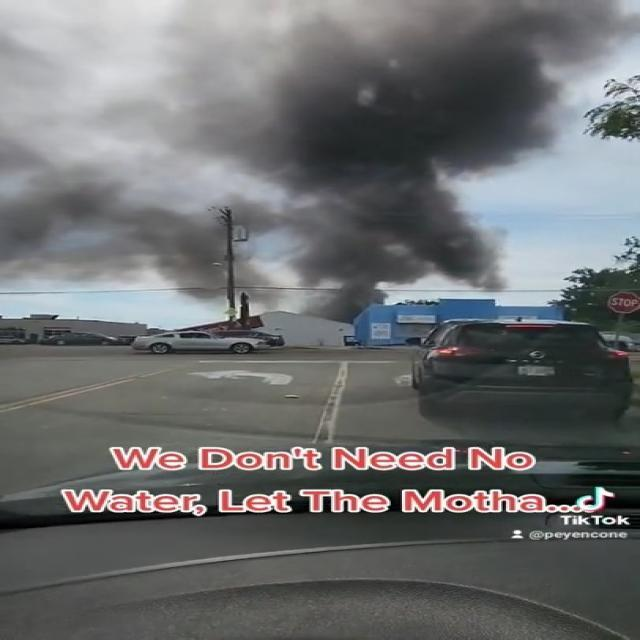Smoke: (210, 2, 521, 282)
